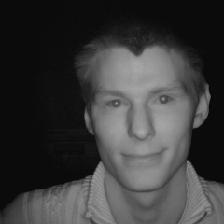happy: (60, 19, 216, 190)
